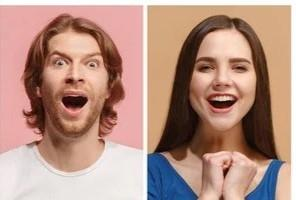feliz: (171, 10, 276, 141)
surpreso: (25, 6, 129, 146)
